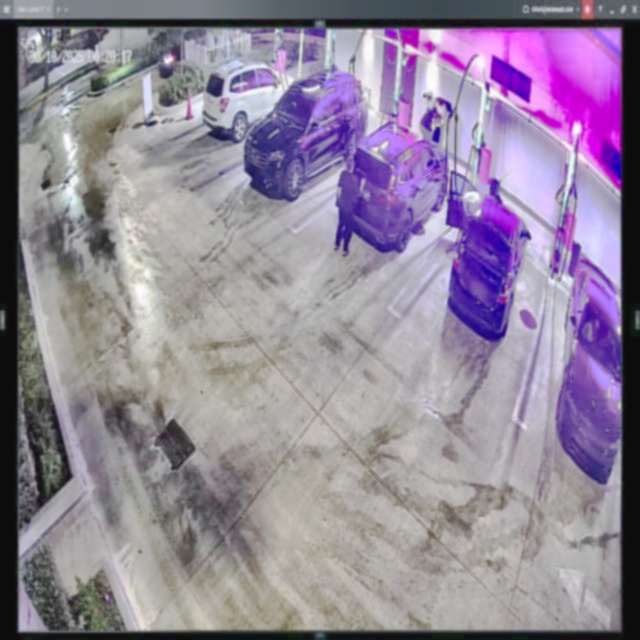Car: (244, 70, 367, 198), (447, 170, 531, 339), (348, 122, 447, 247)
